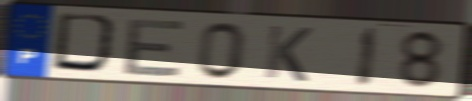0: (194, 20, 250, 82)
8: (397, 29, 448, 91)
D: (49, 11, 125, 78)
E: (119, 17, 189, 78)
I: (354, 25, 382, 90)
K: (262, 23, 316, 85)
